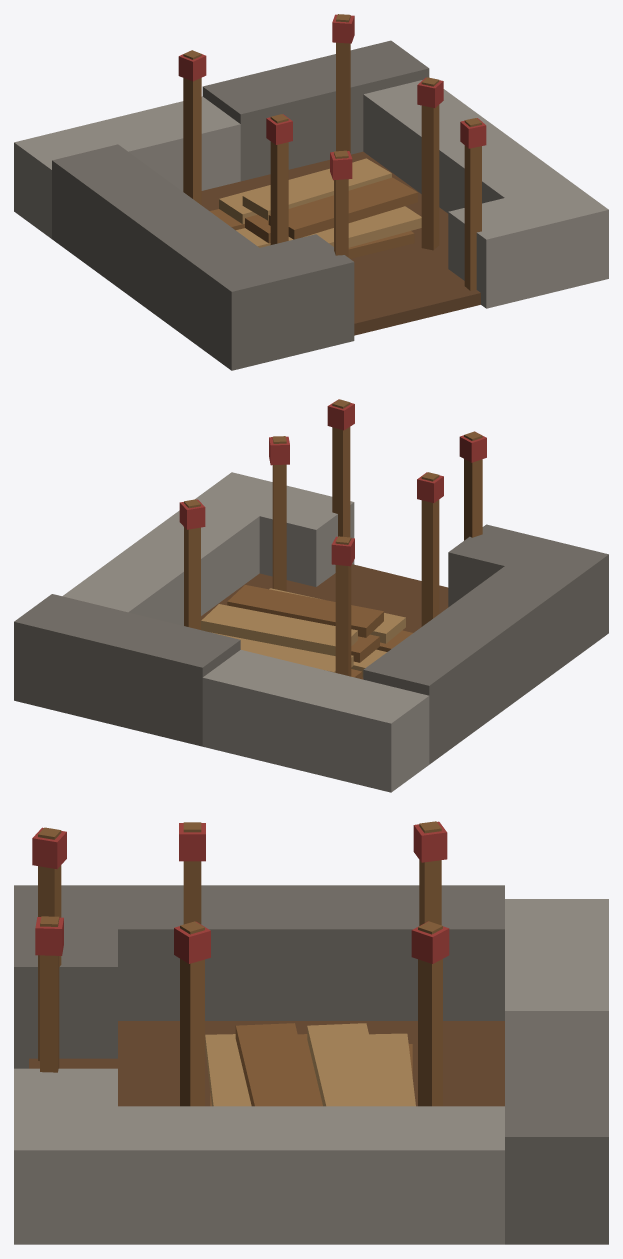
File: site_2x2_1.glb
3 renders of one model, top to bottom at view 1: azimuth 30°, elevation 25°; view 2: azimuth 150°, elevation 25°; view 3: azimuth 270°, elevation 25°, orthographic. The views are drawn at different scales.
Parts seen in each view (by area): view 1: site_2x2_1; view 2: site_2x2_1; view 3: site_2x2_1.
Part boxes in pixels (x1,y1,x2,y2): site_2x2_1: (14,14,608,370); site_2x2_1: (14,399,608,792); site_2x2_1: (14,821,608,1244).
Bounding box in the file's own units: 2 × 0.9 × 2.
